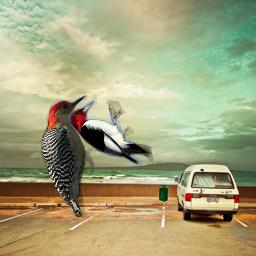Woodpecker: (60, 97, 156, 169), (40, 95, 94, 217)
